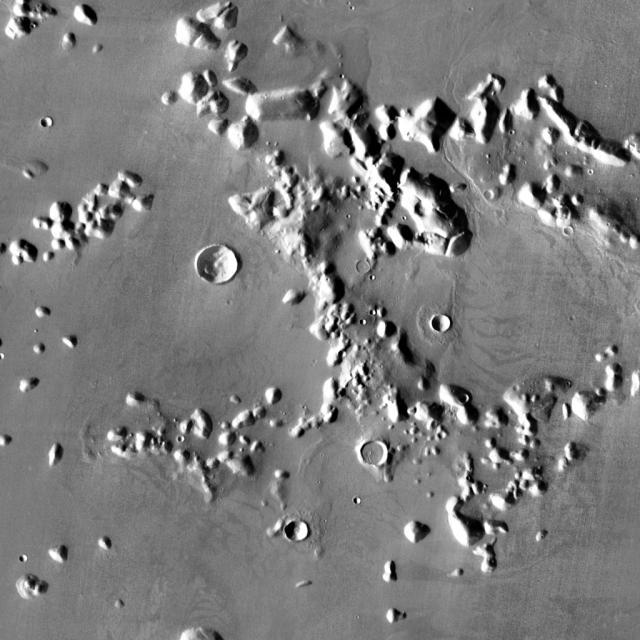crater: (40, 190, 340, 464), (401, 207, 635, 422), (286, 402, 459, 560), (200, 246, 241, 283), (364, 441, 389, 465), (287, 519, 311, 541), (435, 313, 454, 331), (416, 199, 434, 215), (359, 260, 373, 274), (485, 189, 496, 199), (42, 118, 53, 128), (460, 392, 470, 402), (566, 226, 576, 234), (21, 554, 28, 561), (348, 490, 356, 496), (333, 342, 340, 348)
